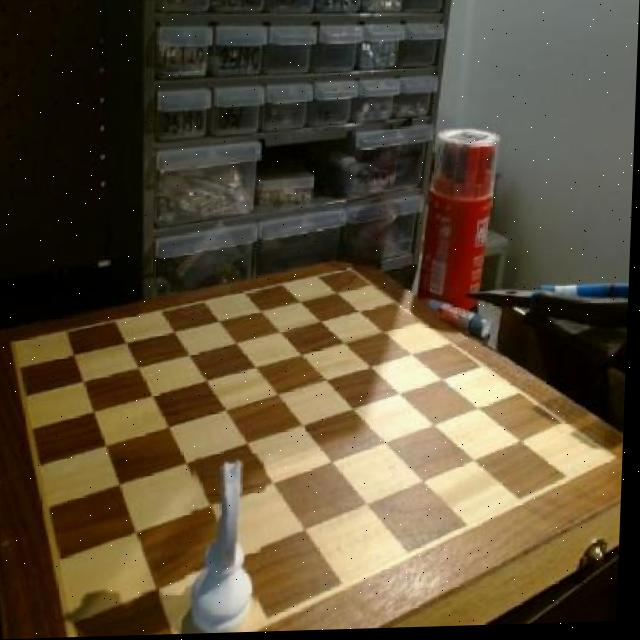white-king: (187, 450, 269, 634)
